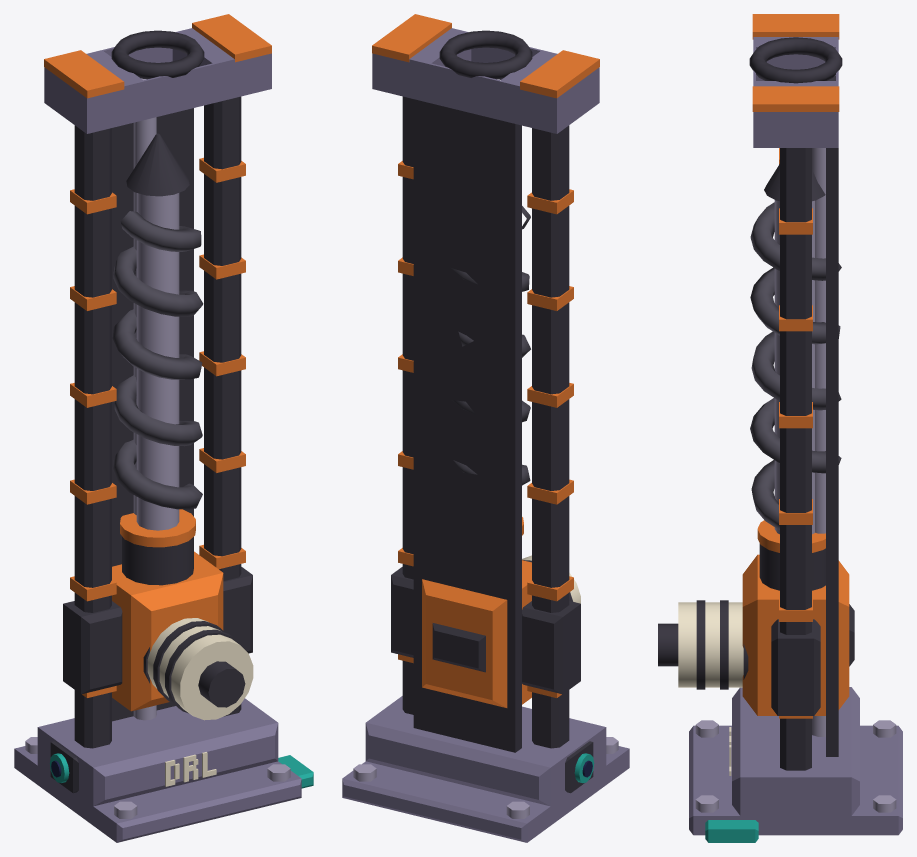
The model's file is drill.glb.
The picture shows the model from 3 angles, left to right: view 1: azimuth 30°, elevation 25°; view 2: azimuth 150°, elevation 25°; view 3: azimuth 270°, elevation 25°; orthographic projection.
Parts seen in each view (by area): view 1: rail_graphite, plate_purpleGrey, auger_steel, rail_orange, head_graphite, auger_purpleGreyLight, head_orange, head_creamHull, auger_graphite, plate_purpleGreyLight, auger_orange, plate_teal (+1 smaller); view 2: rail_graphite, plate_purpleGrey, rail_orange, head_graphite, head_orange, auger_steel, plate_purpleGreyLight; view 3: rail_graphite, plate_purpleGrey, auger_steel, head_graphite, head_orange, rail_orange, plate_purpleGreyLight, head_creamHull, auger_graphite, auger_purpleGreyLight, plate_teal, auger_orange.
Boxes of the visible parts, box(x1,y1,x2,y2) form: rail_graphite: box(50, 30, 241, 793); plate_purpleGrey: box(14, 28, 301, 842); auger_steel: box(112, 211, 203, 509); rail_orange: box(44, 14, 271, 697); head_graphite: box(63, 567, 252, 713); auger_purpleGreyLight: box(136, 193, 179, 530); head_orange: box(112, 551, 223, 711); head_creamHull: box(147, 618, 253, 720); auger_graphite: box(122, 133, 193, 585); plate_purpleGreyLight: box(25, 78, 290, 818); auger_orange: box(120, 509, 195, 547); plate_teal: box(49, 753, 313, 788); rail_graphite: box(402, 30, 593, 793); plate_purpleGrey: box(342, 28, 629, 842); rail_orange: box(372, 14, 599, 697); head_graphite: box(391, 560, 580, 694); head_orange: box(422, 560, 531, 707); auger_steel: box(451, 206, 530, 485); plate_purpleGreyLight: box(353, 737, 618, 818); rail_graphite: box(749, 37, 842, 770); plate_purpleGrey: box(689, 37, 902, 835); auger_steel: box(750, 202, 841, 529); head_graphite: box(658, 600, 854, 715); head_orange: box(742, 554, 849, 715); rail_orange: box(752, 14, 839, 718); plate_purpleGreyLight: box(695, 148, 896, 812); head_creamHull: box(678, 602, 743, 687); auger_graphite: box(759, 164, 825, 590); auger_purpleGreyLight: box(774, 200, 814, 534); plate_teal: box(705, 820, 758, 842); auger_orange: box(757, 520, 825, 552).
Size of the model in its own units: 0.232 by 0.7589 by 0.229.
